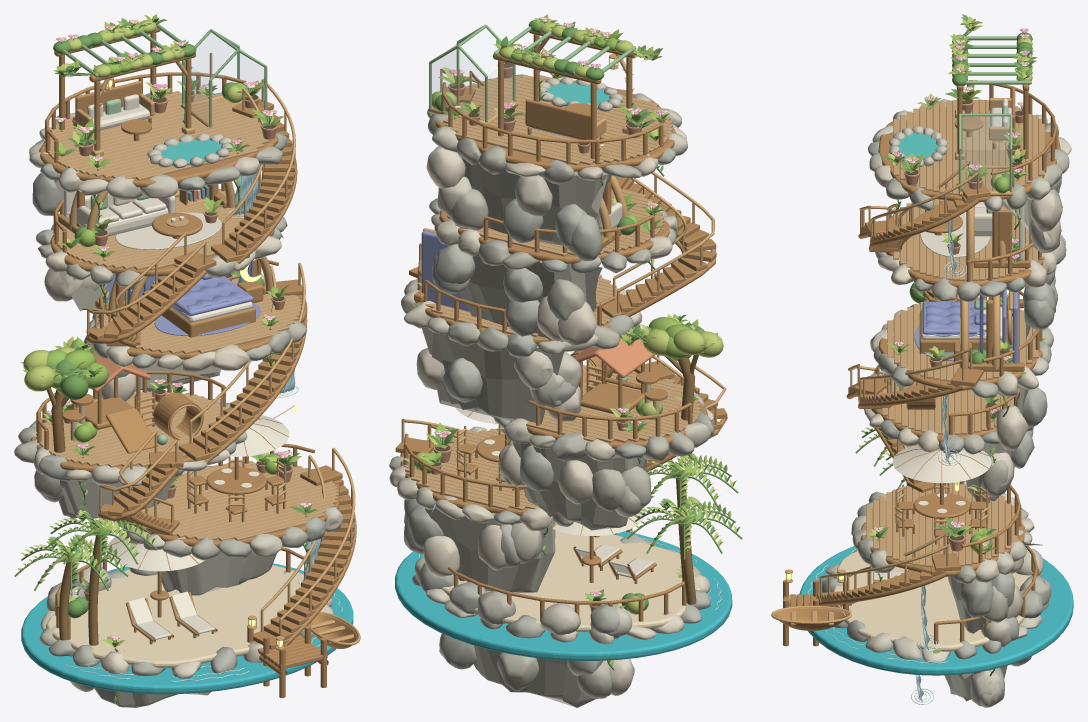
Rendered from Catmosphere_World.glb.
3 views of the same model, side by side, from view 1: azimuth 30°, elevation 25°; view 2: azimuth 150°, elevation 25°; view 3: azimuth 270°, elevation 25° (orthographic). The views are drawn at different scales.
Parts seen in each view (by area): view 1: Terrace_00__GLTF, Ocean basin__GLTF, Cliff_01__GLTF, Cliff_02__GLTF, Umbrella canopy__GLTF, Room rug.001__GLTF, Terrace_05__GLTF, Umbrella canopy.001__GLTF, Play climbing ramp__GLTF, Play wooden crawl tunnel__GLTF, Bed frame__GLTF, Dining table__GLTF (+50 smaller); view 2: Ocean basin__GLTF, Terrace_00__GLTF, Cliff_03__GLTF, Cliff_01__GLTF, Cliff_05__GLTF, Cliff_02__GLTF, Cliff_04__GLTF, Cliff_00__GLTF, Roof sofa timber back__GLTF, Terrace_05__GLTF, Rear layered outcrop_3_1__GLTF, Playhouse pitched roof__GLTF (+58 smaller); view 3: Ocean basin__GLTF, Terrace_00__GLTF, Umbrella canopy.001__GLTF, Terrace_05__GLTF, Terrace_01__GLTF, Terrace_03__GLTF, Terrace_04__GLTF, Rear layered outcrop_3_6__GLTF, Room rug.001__GLTF, Dining table__GLTF, Beach moored rowboat__GLTF, Rear layered outcrop_1_4__GLTF (+32 smaller).
Boxes of the visible parts, x1=… form: Terrace_00__GLTF: x1=46, y1=565, x2=321, y2=667; Ocean basin__GLTF: x1=21, y1=563, x2=353, y2=694; Cliff_01__GLTF: x1=157, y1=551, x2=276, y2=595; Cliff_02__GLTF: x1=58, y1=474, x2=175, y2=518; Umbrella canopy__GLTF: x1=107, y1=533, x2=204, y2=571; Room rug.001__GLTF: x1=115, y1=212, x2=221, y2=249; Terrace_05__GLTF: x1=39, y1=93, x2=278, y2=187; Umbrella canopy.001__GLTF: x1=229, y1=415, x2=289, y2=456; Play climbing ramp__GLTF: x1=106, y1=407, x2=158, y2=453; Play wooden crawl tunnel__GLTF: x1=153, y1=392, x2=203, y2=439; Bed frame__GLTF: x1=162, y1=306, x2=255, y2=337; Dining table__GLTF: x1=206, y1=467, x2=266, y2=494; Ocean basin__GLTF: x1=395, y1=531, x2=732, y2=660; Terrace_00__GLTF: x1=441, y1=530, x2=700, y2=631; Cliff_03__GLTF: x1=422, y1=327, x2=564, y2=424; Cliff_01__GLTF: x1=425, y1=508, x2=555, y2=592; Cliff_05__GLTF: x1=461, y1=154, x2=611, y2=245; Cliff_02__GLTF: x1=513, y1=441, x2=647, y2=530; Cliff_04__GLTF: x1=459, y1=254, x2=602, y2=341; Cliff_00__GLTF: x1=473, y1=645, x2=610, y2=707; Roof sofa timber back__GLTF: x1=525, y1=99, x2=590, y2=139; Terrace_05__GLTF: x1=435, y1=76, x2=676, y2=171; Rear layered outcrop_3_1__GLTF: x1=443, y1=358, x2=482, y2=402; Playhouse pitched roof__GLTF: x1=596, y1=336, x2=654, y2=377; Ocean basin__GLTF: x1=799, y1=546, x2=1073, y2=675; Terrace_00__GLTF: x1=833, y1=551, x2=1031, y2=651; Umbrella canopy.001__GLTF: x1=892, y1=445, x2=991, y2=483; Terrace_05__GLTF: x1=878, y1=99, x2=1060, y2=202; Terrace_01__GLTF: x1=860, y1=484, x2=1025, y2=576; Terrace_03__GLTF: x1=879, y1=300, x2=1042, y2=390; Terrace_04__GLTF: x1=885, y1=199, x2=1043, y2=287; Rear layered outcrop_3_6__GLTF: x1=996, y1=405, x2=1028, y2=451; Room rug.001__GLTF: x1=920, y1=212, x2=990, y2=257; Dining table__GLTF: x1=913, y1=492, x2=970, y2=518; Beach moored rowboat__GLTF: x1=774, y1=607, x2=848, y2=630; Rear layered outcrop_1_4__GLTF: x1=960, y1=579, x2=993, y2=617.
Bounding box in the file's own units: 11.59 × 22.69 × 10.09.
